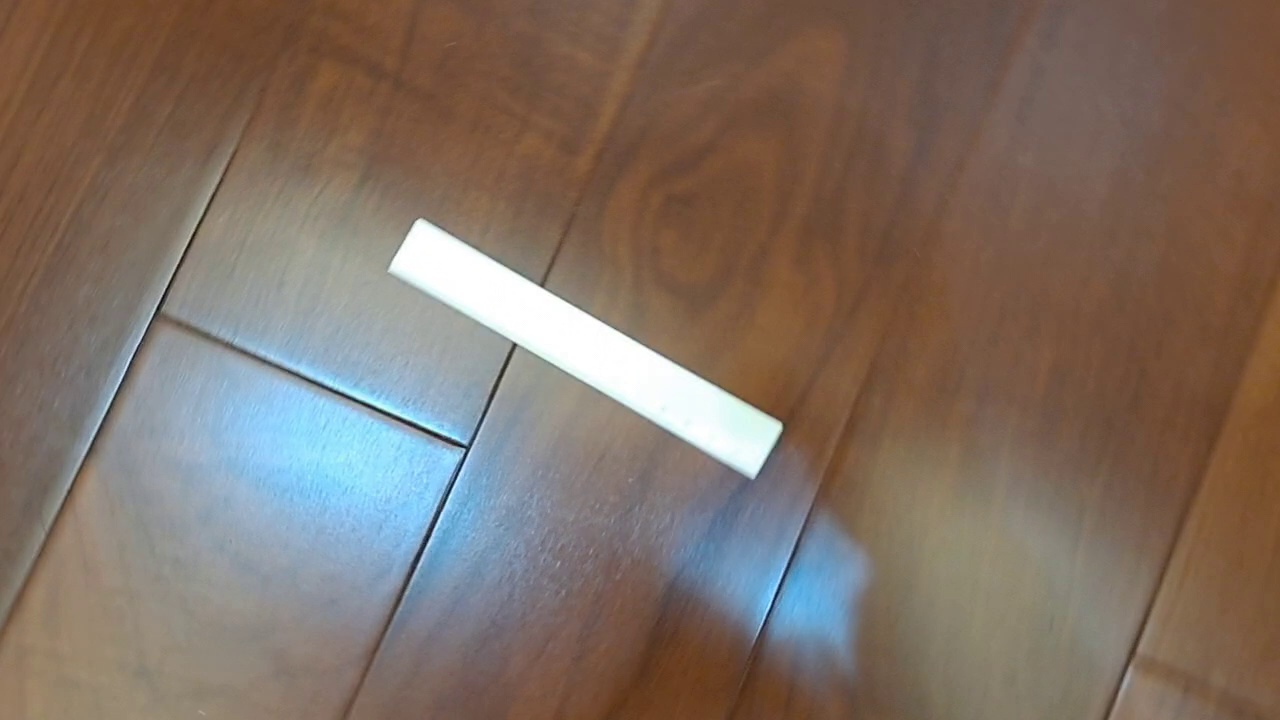ruler: (385, 215, 785, 481)
